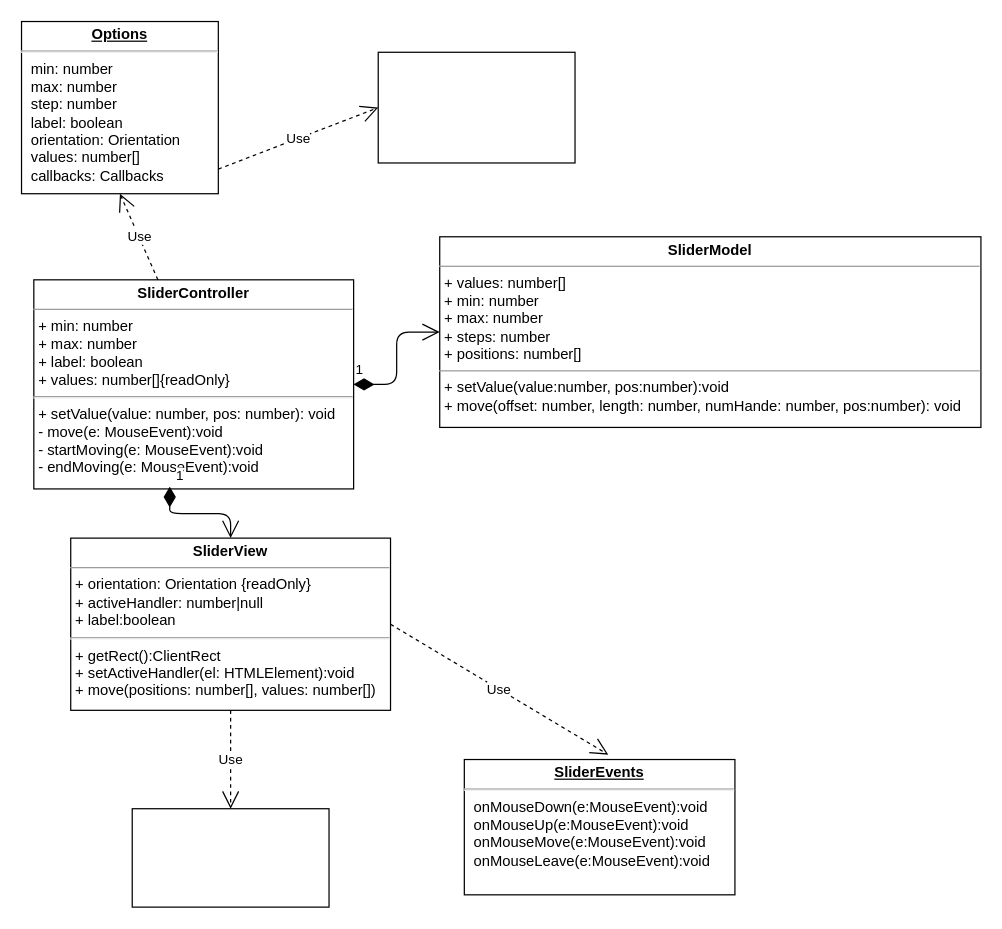
Some shapes in this 1002 by 929 pixel diagram are drawn without their labels. Each missing label, with the centre of its shape:
"Callbacks onMove: (val:number[]):void" goes at [476,107].
"Orientation Vertical = 0, Horizontal = 1" goes at [230,857].
